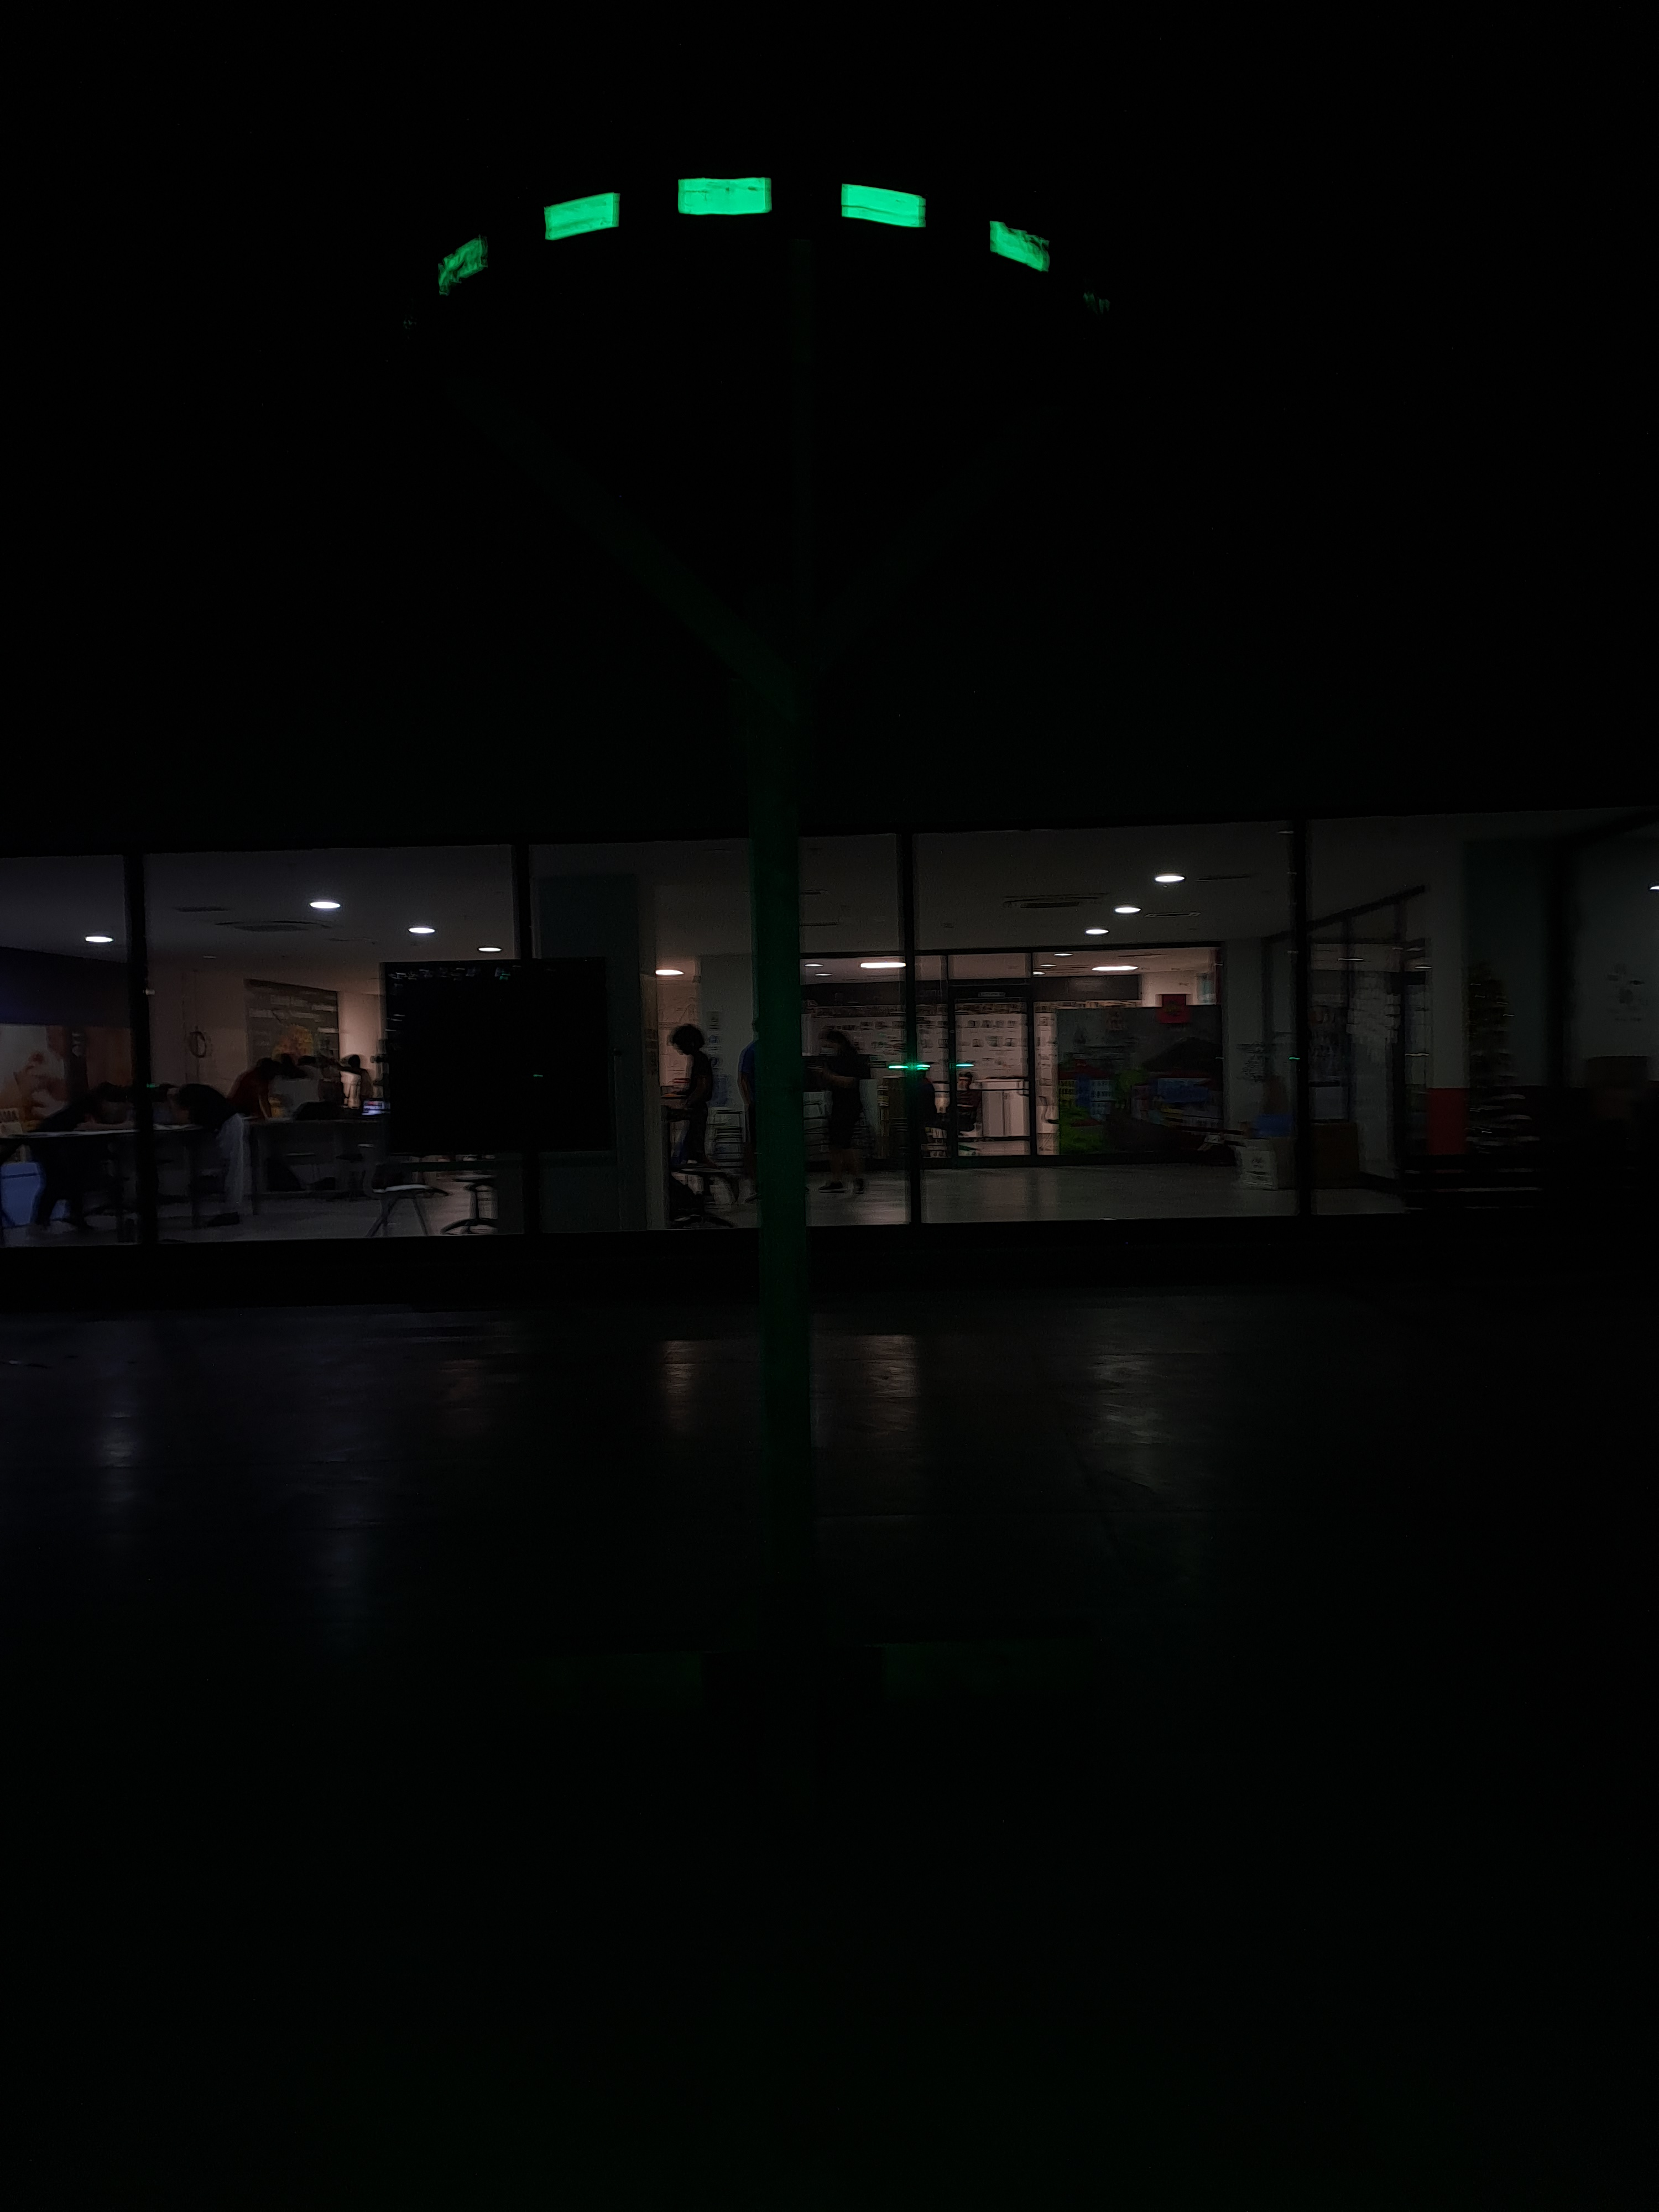hoop: (434, 172, 1051, 296)
